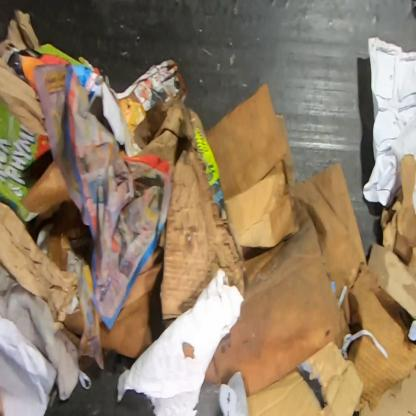cardboard: (205, 81, 367, 398), (133, 92, 246, 321), (347, 153, 415, 415), (100, 221, 176, 358), (248, 338, 364, 416), (225, 171, 301, 250), (36, 200, 92, 272), (62, 303, 85, 337)
soft_plastic: (189, 371, 250, 415)
